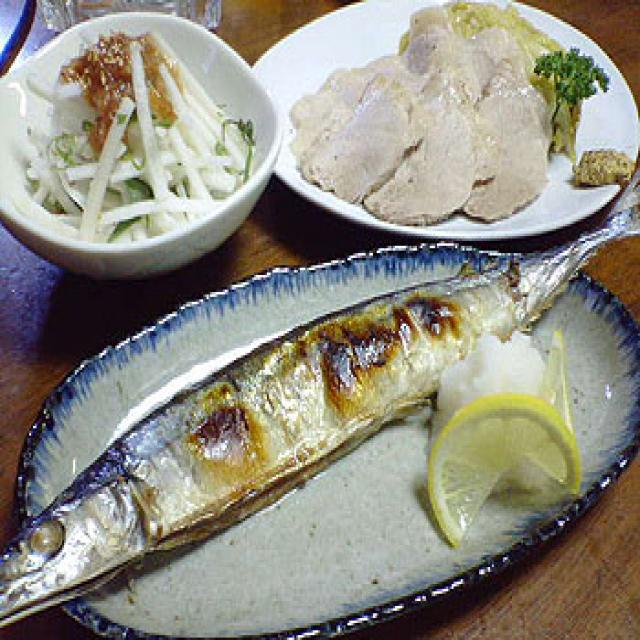熟制海鲜: (0, 141, 640, 630)
